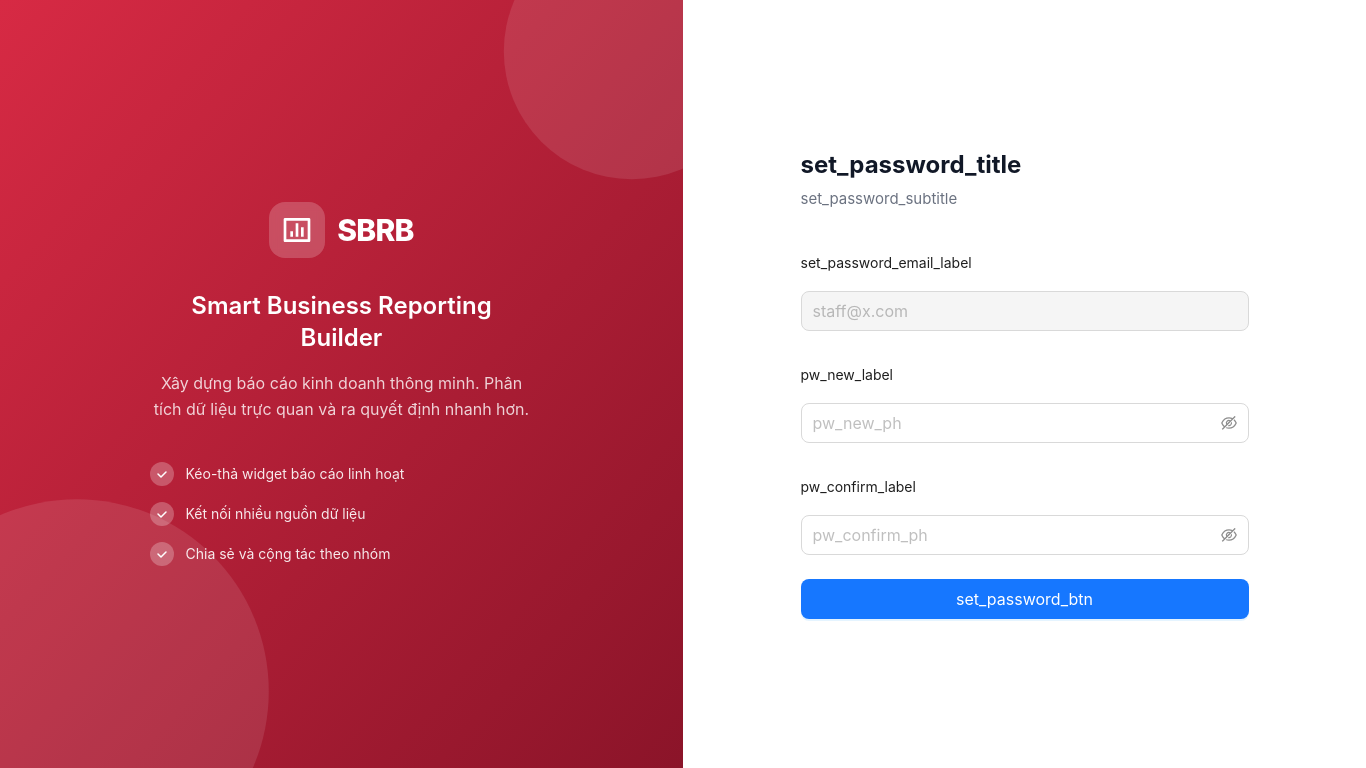
Scenario: SetPasswordPage › submits the new password then shows the success screen
Type "ValidPass1" into the password field with placeholder "pw_new_ph" at (1014, 423), box [812,411,1216,435]
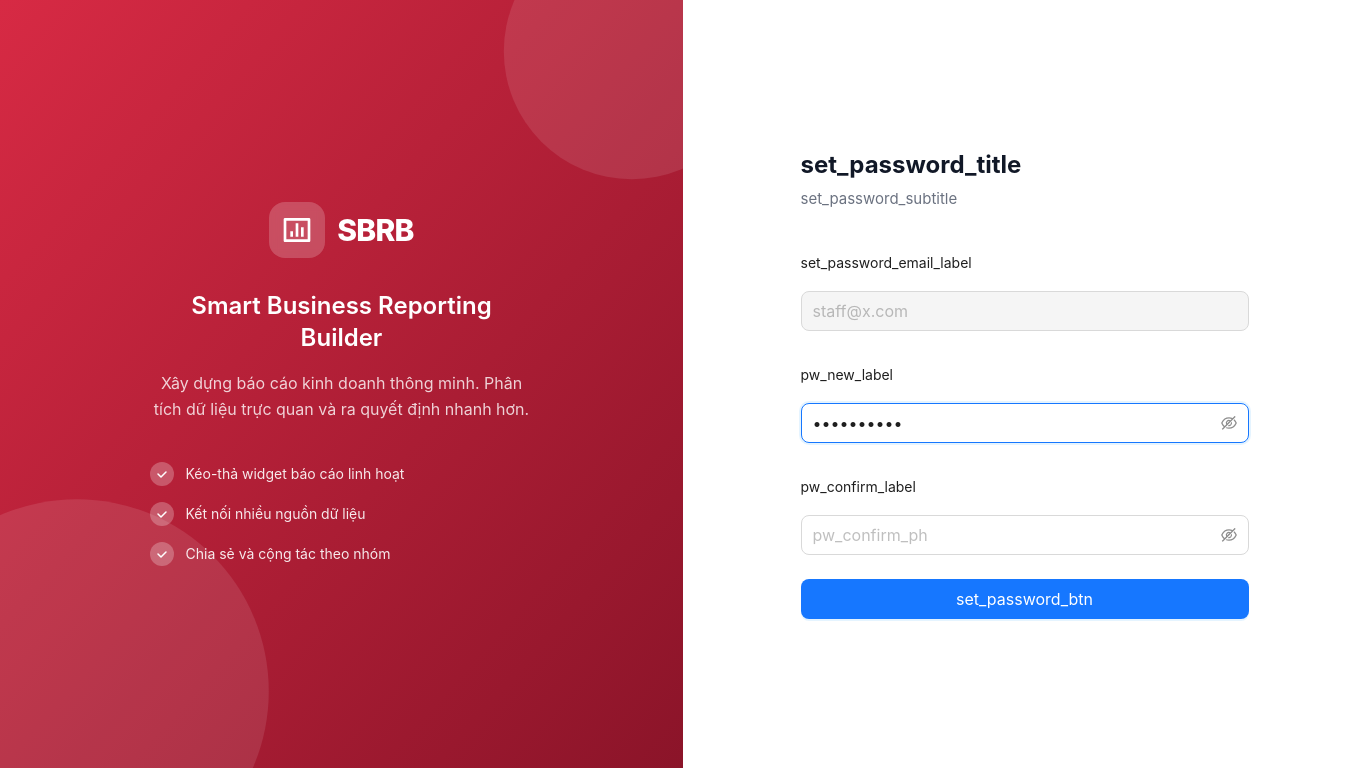
Type "ValidPass1" into the password field with placeholder "pw_confirm_ph" at (1014, 535), box [812,523,1216,547]
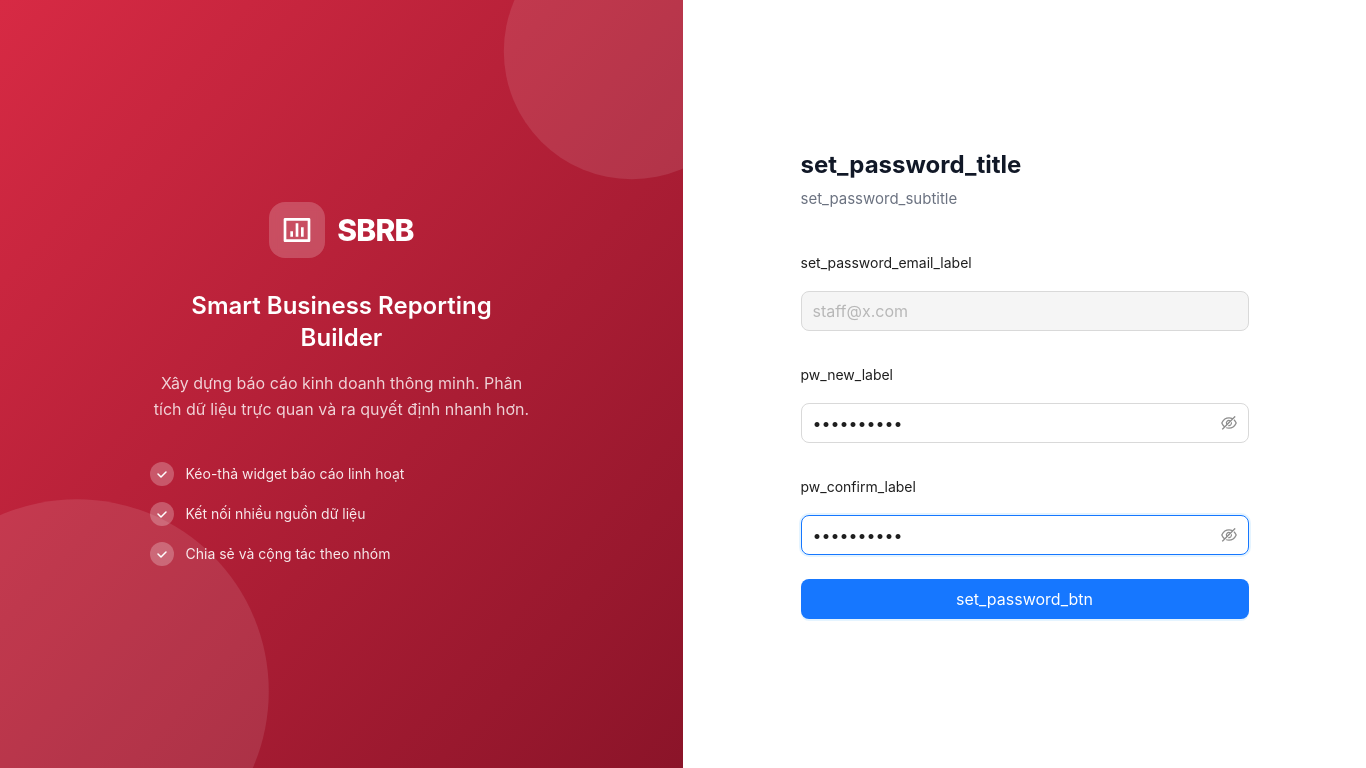
Click the button "set_password_btn" at (1024, 599), box [800,579,1248,619]
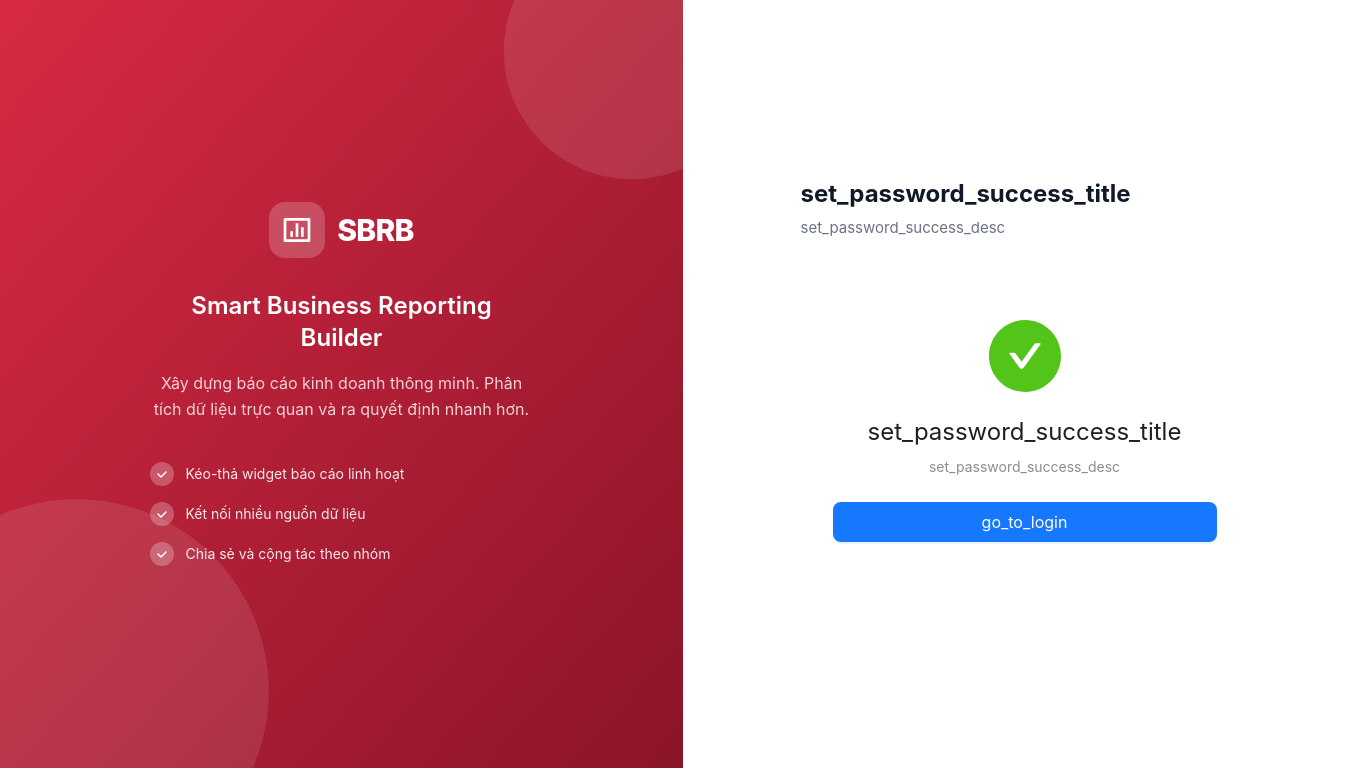
Now the heading "set_password_success_title" is shown, box [800,179,1131,208]
